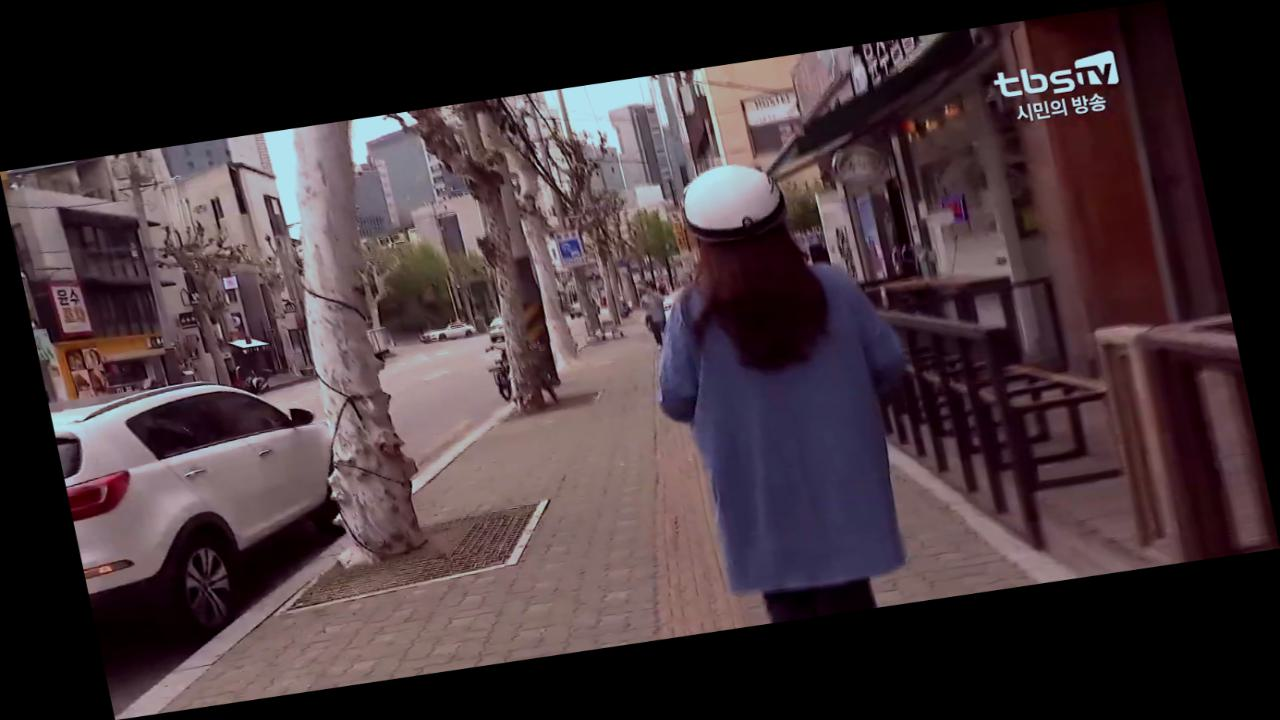helmet: (613, 144, 962, 633)
